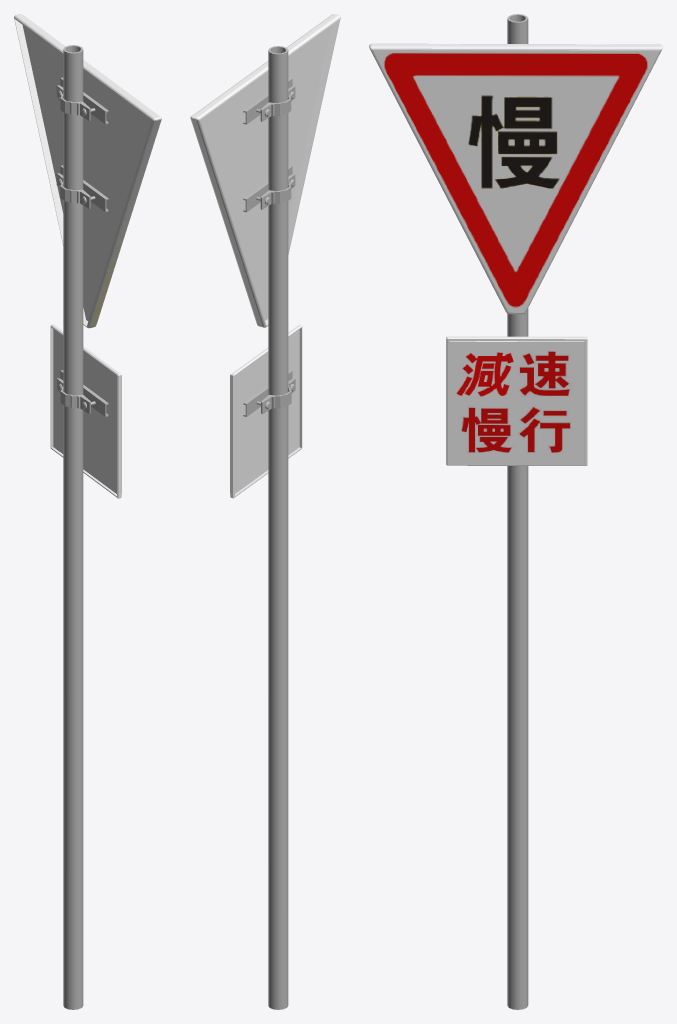
Rendered from slow.FBX.
The picture shows the model from 3 angles, left to right: view 1: azimuth 30°, elevation 25°; view 2: azimuth 150°, elevation 25°; view 3: azimuth 270°, elevation 25°; orthographic projection. The views are drawn at different scales.
Bounding box in the file's own units: 3.65 × 112 × 30.19.
Materials: 2 (1 with a texture image).
